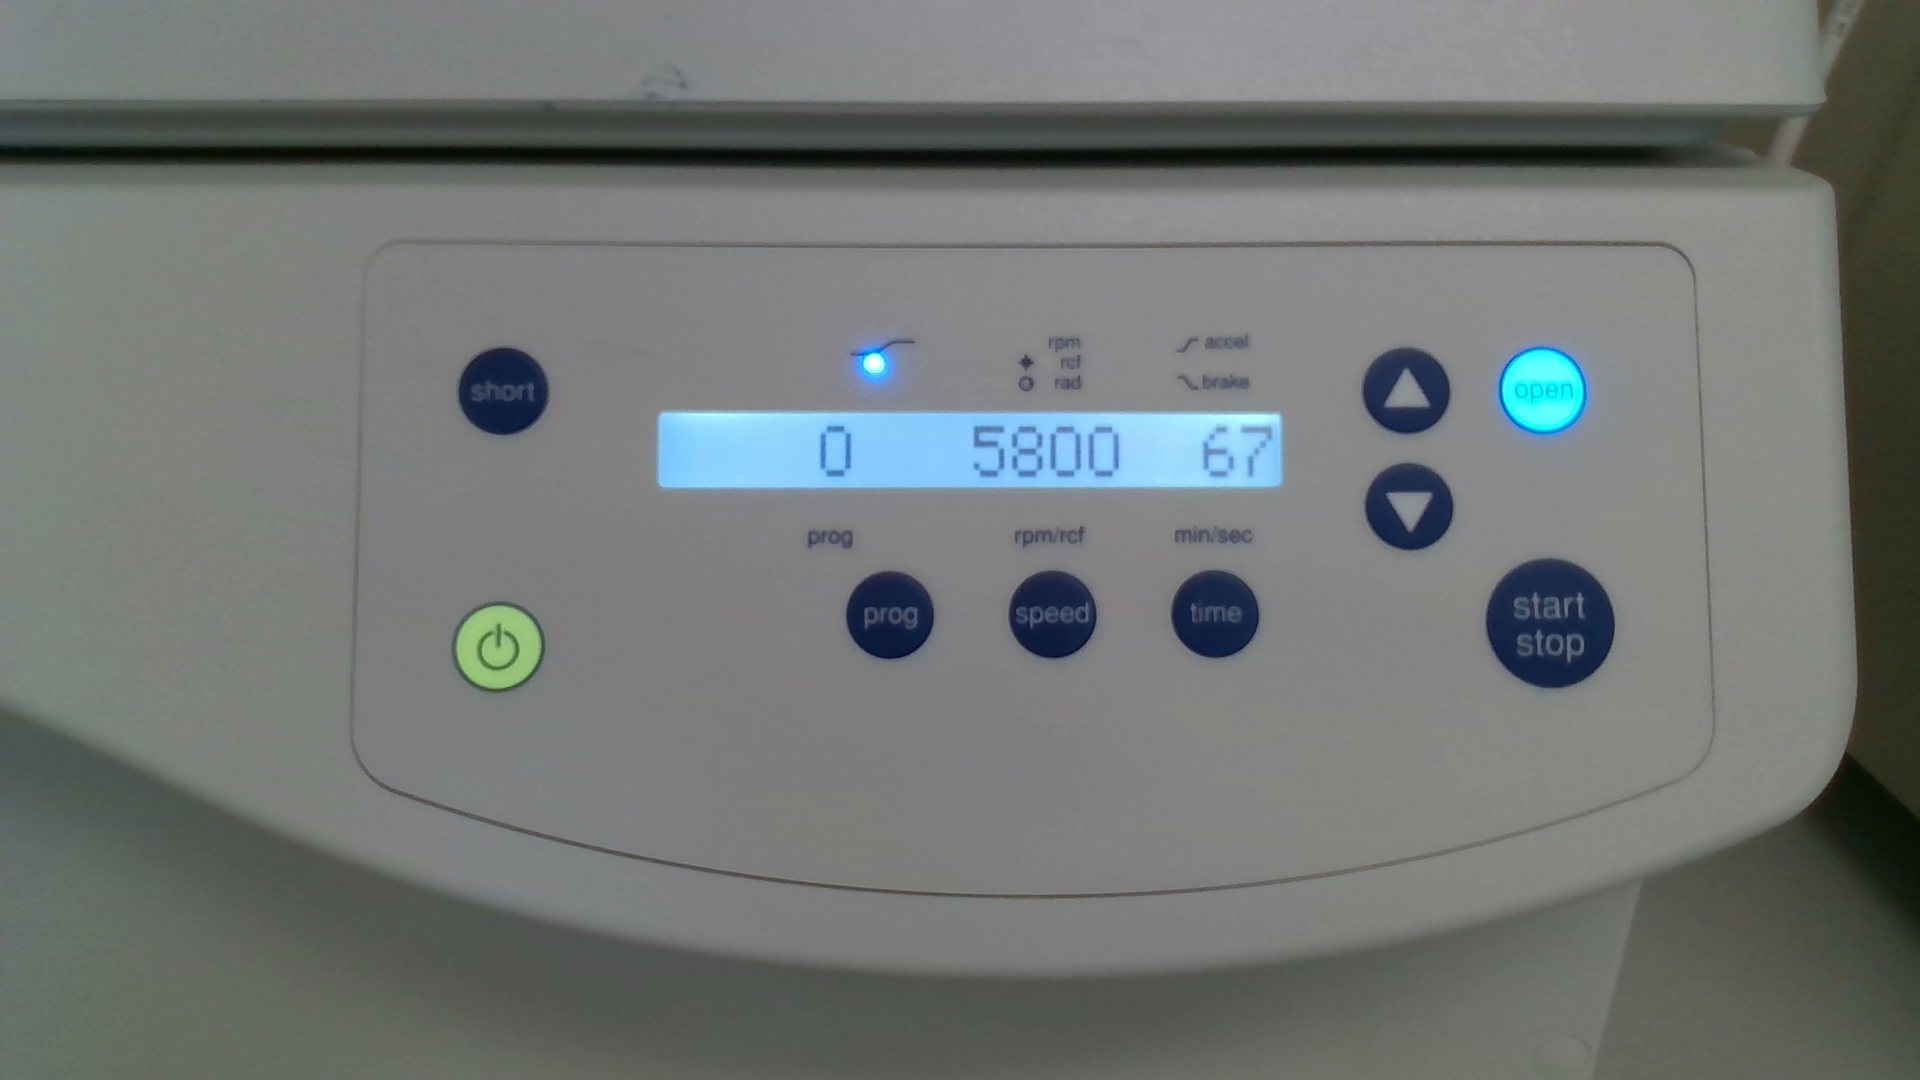0: (1050, 425, 1081, 477), (1088, 426, 1120, 477), (820, 426, 851, 477)
5: (973, 425, 1005, 477)
6: (1203, 426, 1234, 477)
7: (1241, 426, 1273, 477)
8: (1011, 426, 1043, 477)
open_on: (1497, 345, 1586, 435)
power_on: (452, 601, 545, 694)
